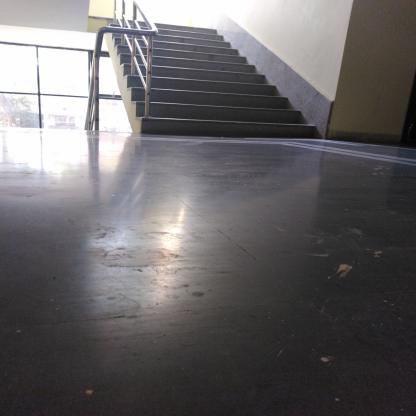stairs: (161, 29, 220, 138)
